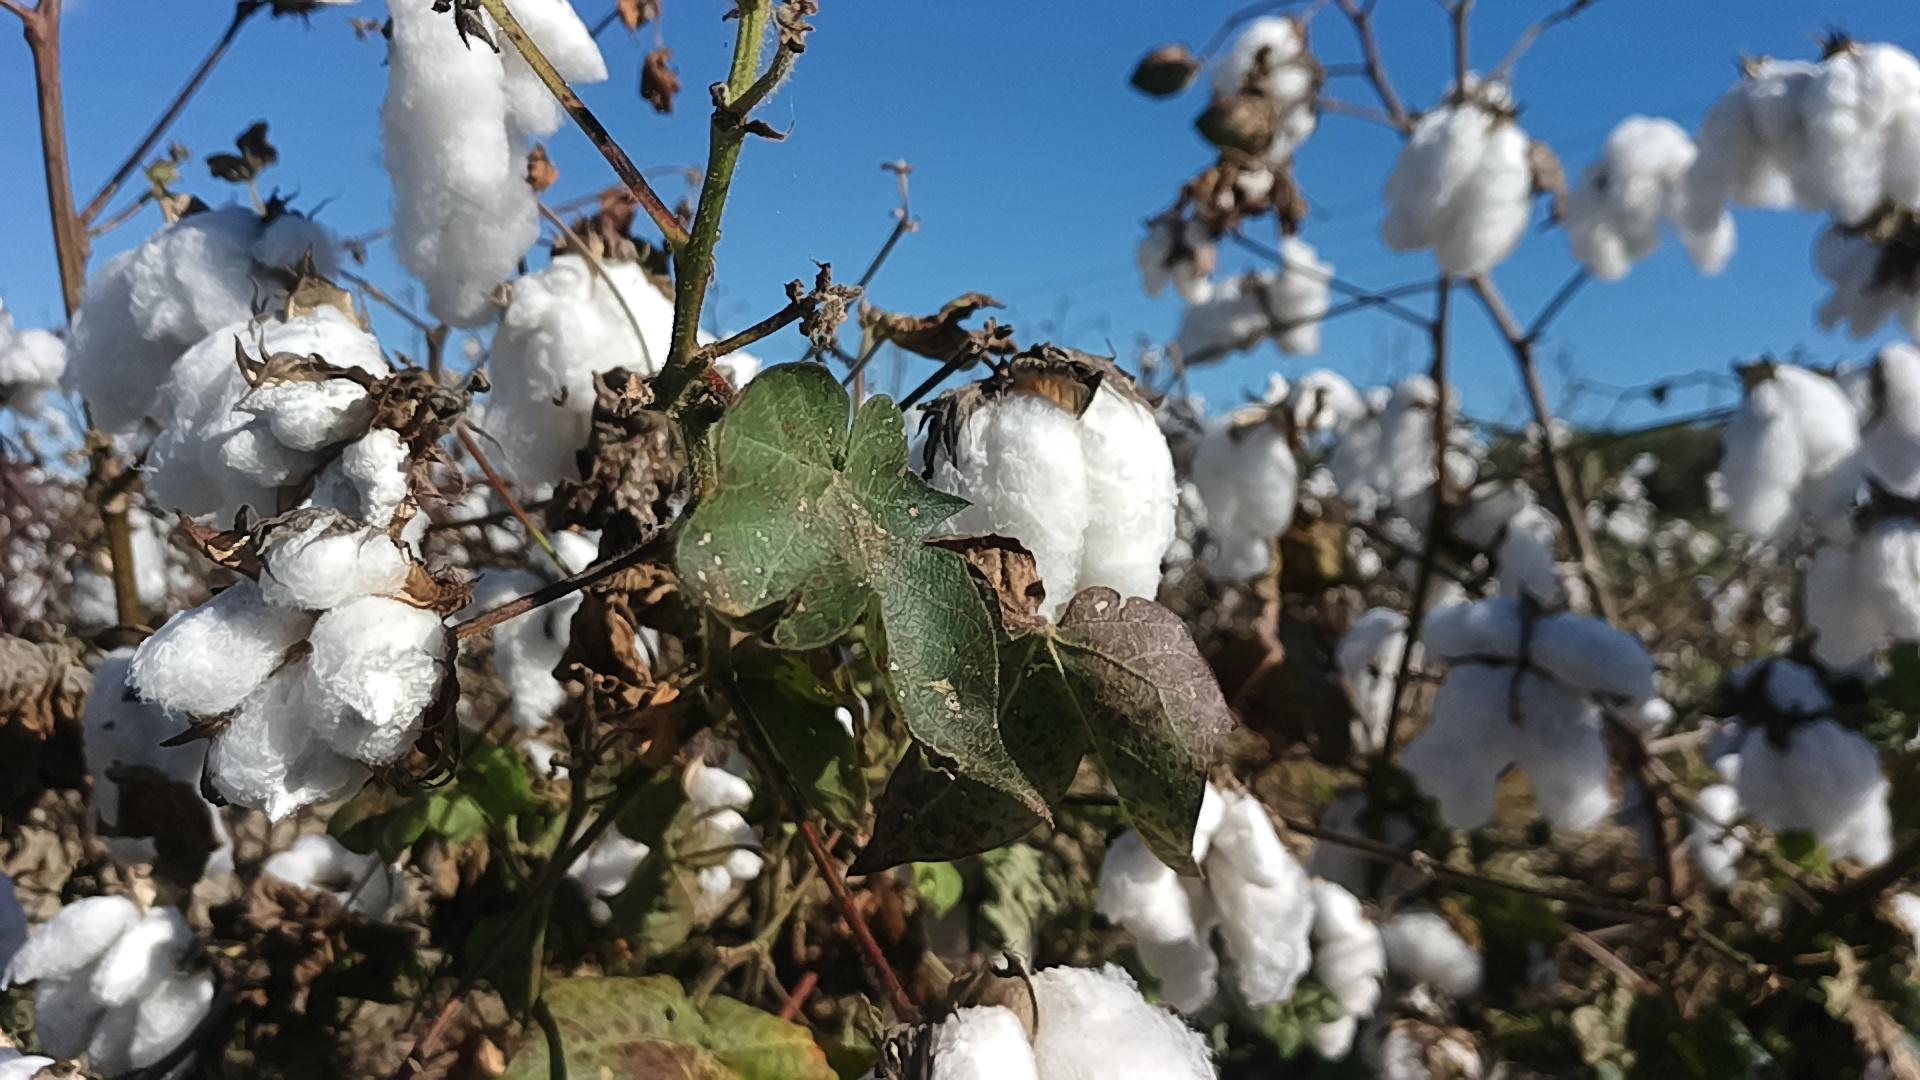cotton_ready: (129, 524, 454, 823), (380, 0, 613, 331), (476, 256, 766, 498), (63, 206, 343, 446), (906, 378, 1178, 625), (1402, 600, 1651, 837), (140, 306, 388, 543), (462, 533, 673, 781), (5, 895, 220, 1072), (930, 965, 1218, 1080), (1096, 778, 1288, 947), (220, 373, 407, 531), (1718, 360, 1873, 543), (1564, 120, 1733, 284), (1375, 105, 1534, 280), (88, 650, 218, 853), (1312, 906, 1484, 1056), (1738, 725, 1898, 865), (1683, 59, 1813, 228), (196, 808, 398, 916), (1805, 41, 1920, 223), (1232, 881, 1386, 1009), (1804, 510, 1920, 673), (1216, 16, 1317, 164), (1189, 426, 1298, 549), (1820, 231, 1920, 339), (682, 766, 764, 897), (564, 814, 653, 928), (1858, 343, 1920, 495), (1168, 276, 1259, 363), (1267, 245, 1336, 351)
